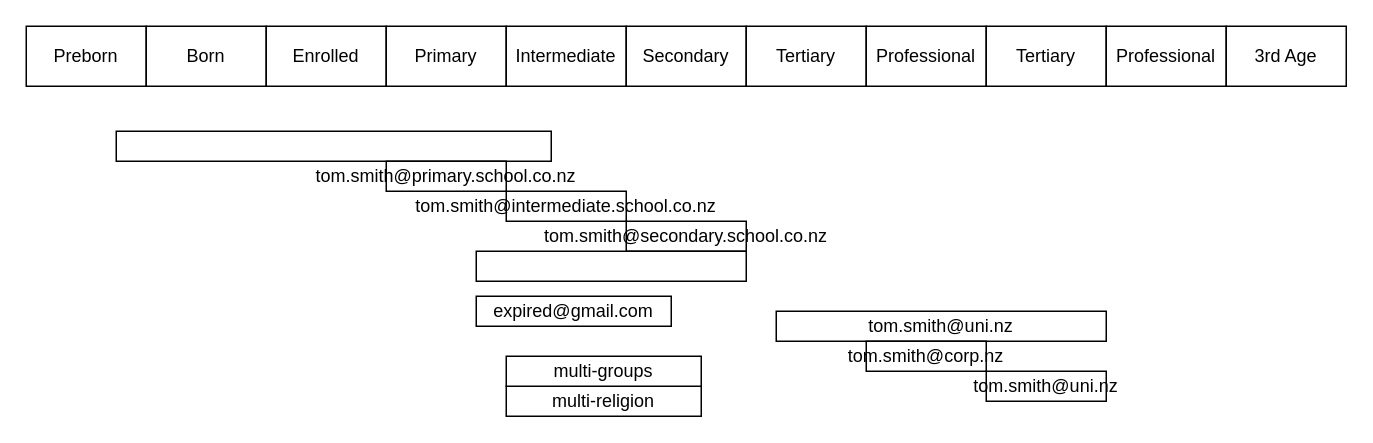
This 1373x443 diagram has some shape labels left out. Here are the shapes that lost their labels. From the top down, the centre of each, then its label:
At point (333, 145): "mom@gmail.com".
At point (610, 265): "tom.smith@national.sports.org".
